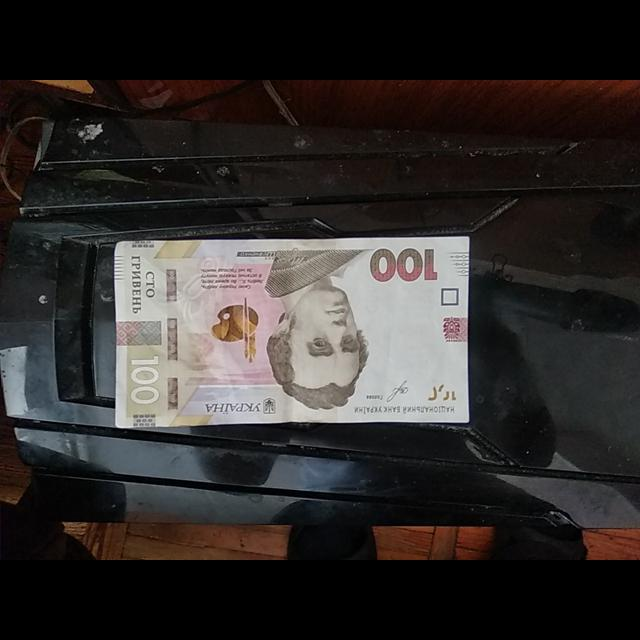100uah: (115, 236, 469, 429)
